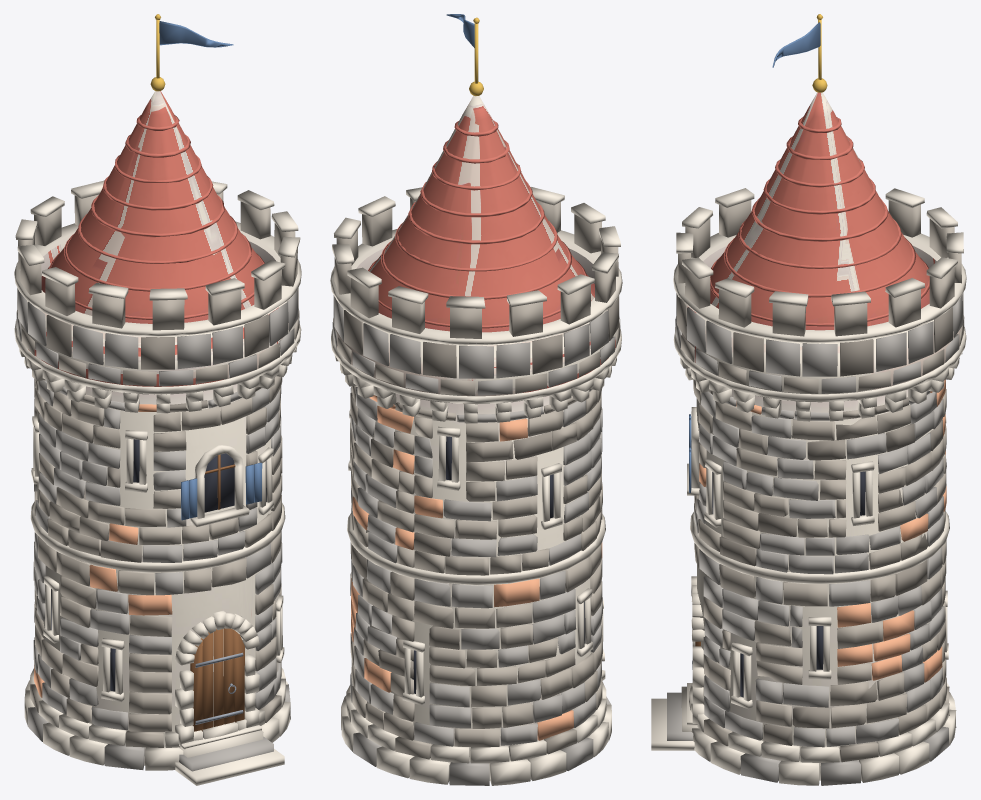
The picture shows the model from 3 angles, left to right: view 1: azimuth 30°, elevation 25°; view 2: azimuth 150°, elevation 25°; view 3: azimuth 270°, elevation 25°; orthographic projection. The views are drawn at different scales.
Parts seen in each view (by area): view 1: castle-tower_details, castle-tower_body, castle-tower_stonework; view 2: castle-tower_details, castle-tower_body, castle-tower_stonework; view 3: castle-tower_details, castle-tower_body, castle-tower_stonework.
Boxes of the visible parts, x1,y1,x2,y2 form: castle-tower_details: (14, 14, 301, 785); castle-tower_body: (20, 91, 296, 765); castle-tower_stonework: (34, 404, 172, 697); castle-tower_details: (330, 14, 622, 785); castle-tower_body: (335, 96, 617, 780); castle-tower_stonework: (351, 395, 602, 740); castle-tower_details: (651, 14, 966, 785); castle-tower_body: (682, 92, 961, 780); castle-tower_stonework: (699, 379, 946, 682).
Bounding box in the file's own units: 6.16 × 16.54 × 6.62.
13 materials, 1 textured.
